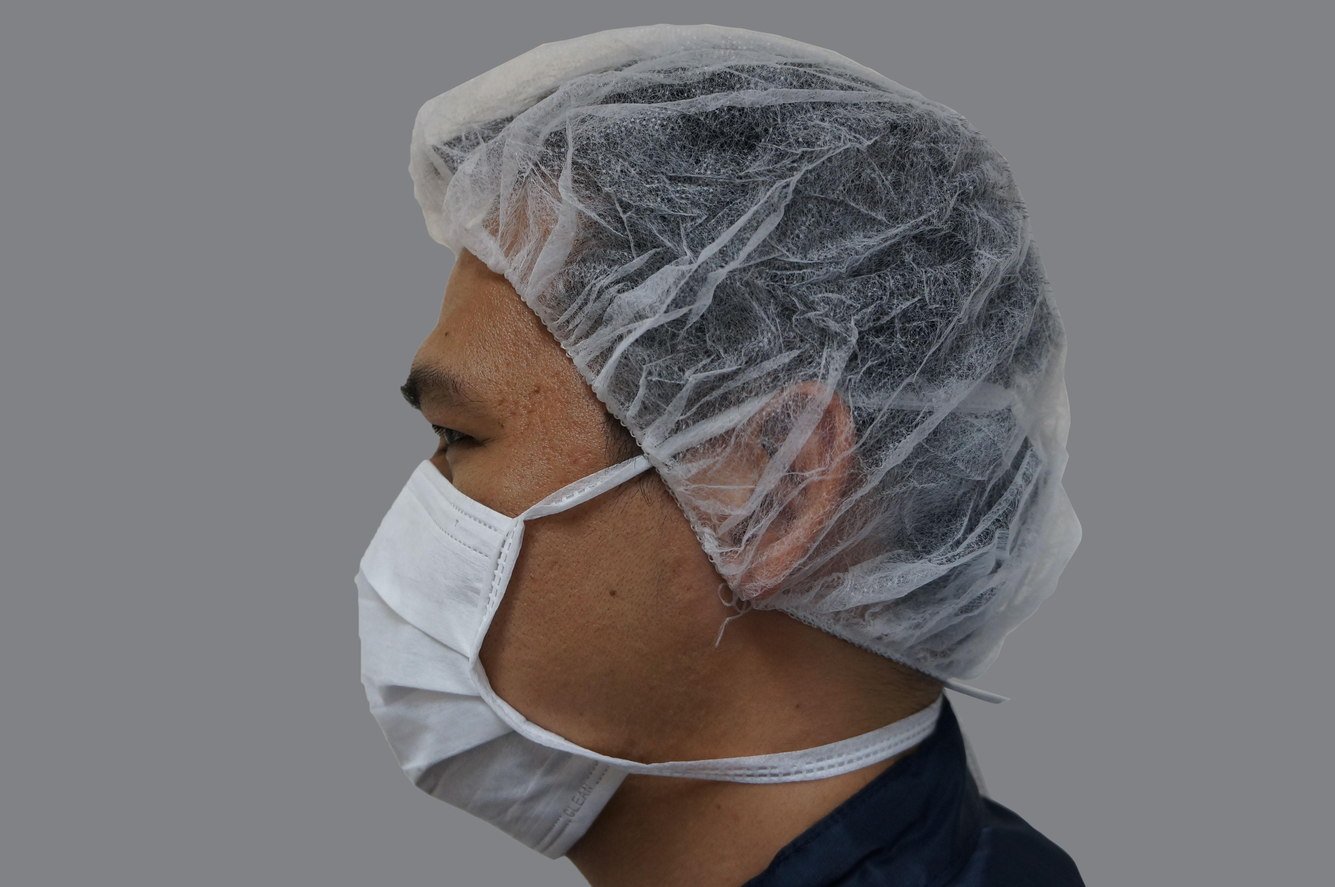Wearing Mask: (148, 0, 1212, 887)
